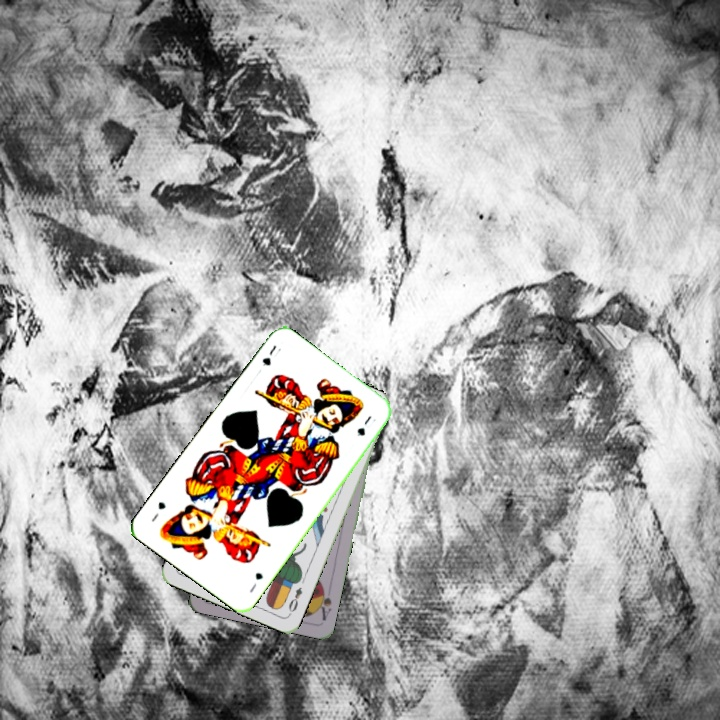EO: (284, 583, 305, 618)
GU: (258, 341, 284, 369), (245, 568, 266, 595)
SA: (313, 582, 334, 623)
